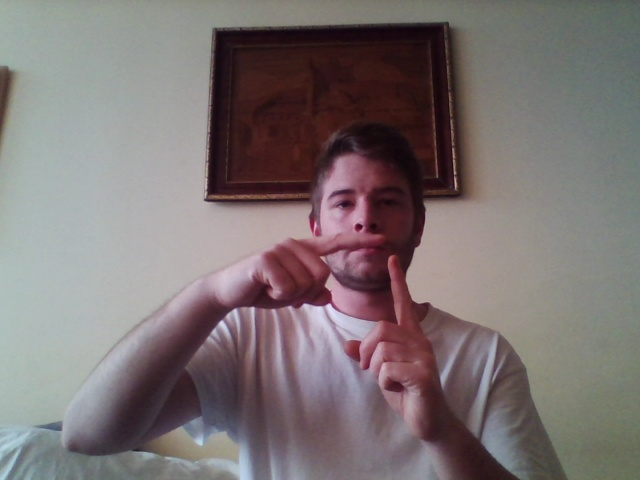kad: (219, 231, 450, 434)
